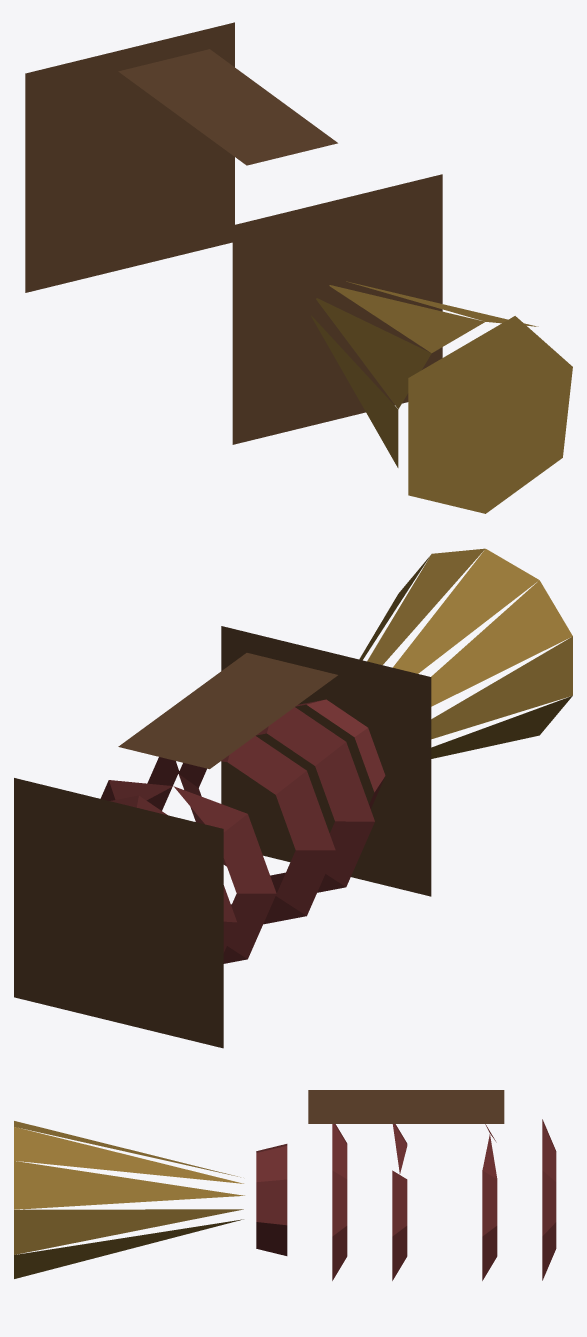
Rendered from fizzz.lod.glb.
3 views of the same model, one above another, from view 1: azimuth 30°, elevation 25°; view 2: azimuth 150°, elevation 25°; view 3: azimuth 270°, elevation 25° (orthographic). The views are drawn at different scales.
Visible parts, largest first — view 1: m; view 2: m; view 3: m.
Boxes of the visible parts, x1,y1,x2,y2 form: m: [25, 22, 572, 513]; m: [14, 548, 572, 1048]; m: [14, 1090, 556, 1280].
Size of the model in its own units: 0.1634 by 0.1725 by 0.4947.
